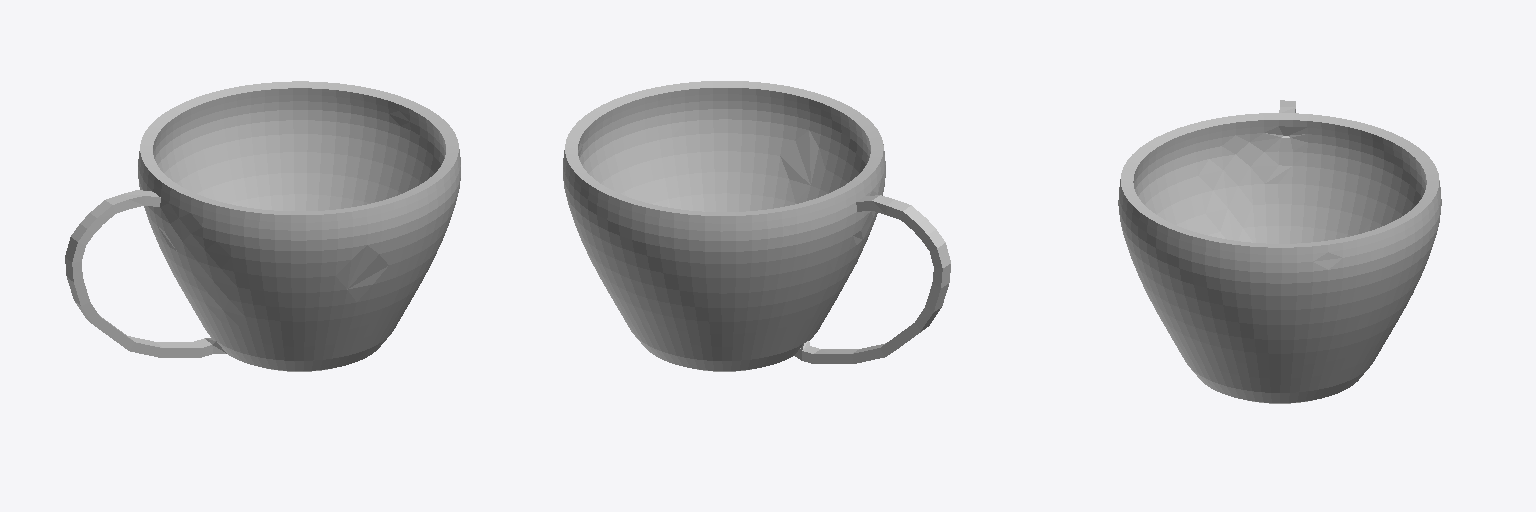
Rendered from tazaCafe.obj.
The picture shows the model from 3 angles: view 1: azimuth 30°, elevation 25°; view 2: azimuth 150°, elevation 25°; view 3: azimuth 270°, elevation 25°; orthographic projection.
Parts seen in each view (by area): view 1: TazaCafe; view 2: TazaCafe; view 3: TazaCafe.
Part boxes in pixels (x1,y1,x2,y2): TazaCafe: (65,81,460,371); TazaCafe: (563,81,950,371); TazaCafe: (1118,100,1441,403).
Size of the model in its own units: 0.195 by 0.0988 by 0.1487.